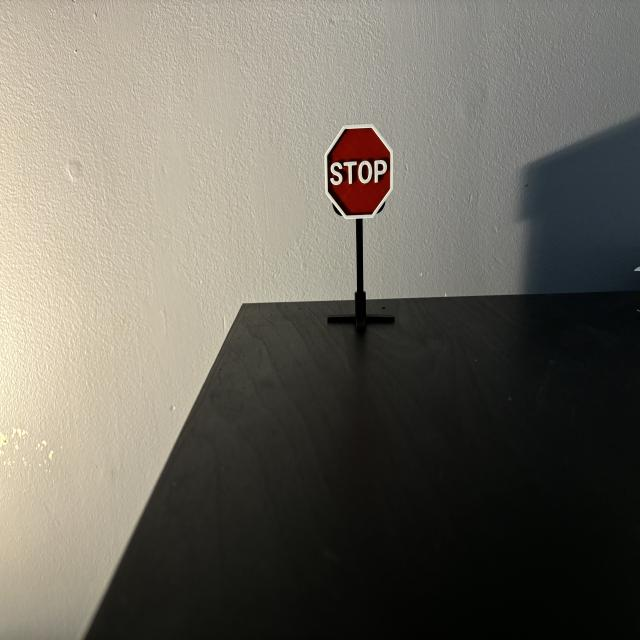sign_stop: (326, 126, 395, 220)
